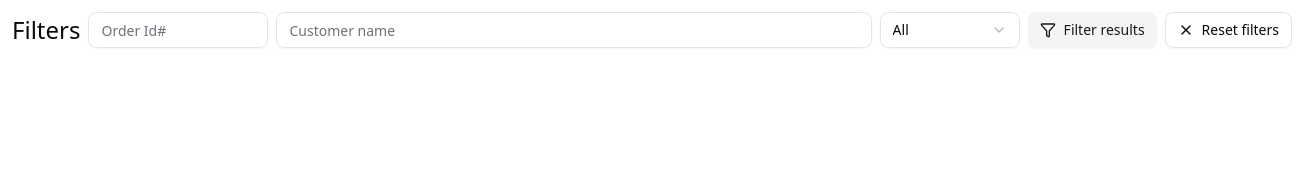
Test: OrderTableFilter component › should add search parameters on the url
The image size is (1304, 172).
Check: the button "Filter results" is shown, box [1028,12,1157,48]
Check: the field labelled "Customer name" is shown, box [276,12,872,48]
# simulate the click - this is a promise, so the function must be async
In the field labelled "Order Id": coordinates (178, 30) [88,12,268,48], type "abc"
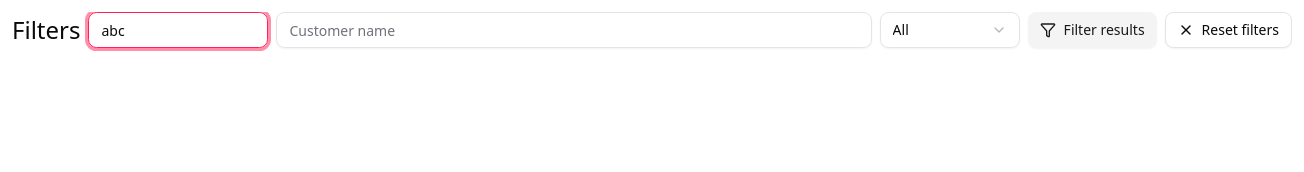
Click the button "Filter results": coordinates (1092, 30) [1028,12,1157,48]
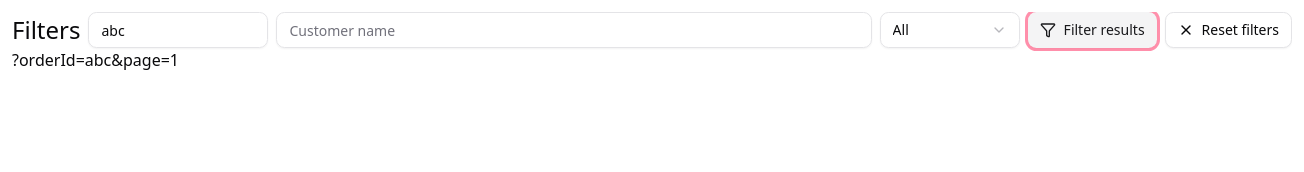
Check: the text with test id "location-display" shows "orderId=abc", box [12,49,179,71]
# simulate the click - this is a promise, so the function must be async
In the field labelled "Customer name": coordinates (574, 30) [276,12,872,48], type "person name"
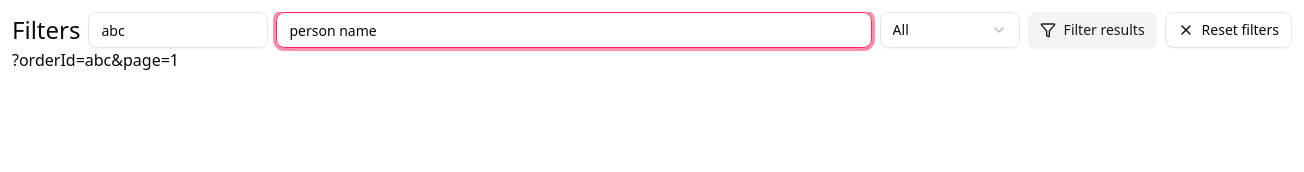
Click the button "Filter results": coordinates (1092, 30) [1028,12,1157,48]
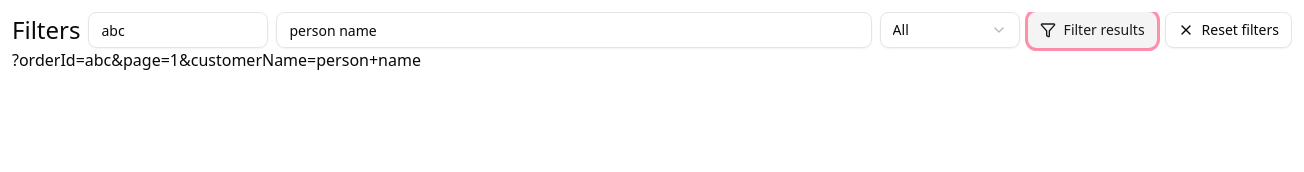
Check: the text with test id "location-display" shows "customerName=person+name", box [12,49,421,71]
